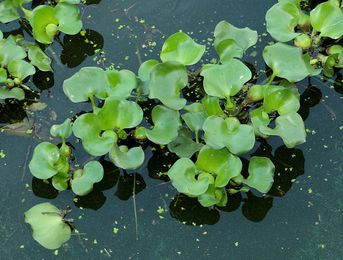water_hyacinth: (0, 1, 342, 250)
